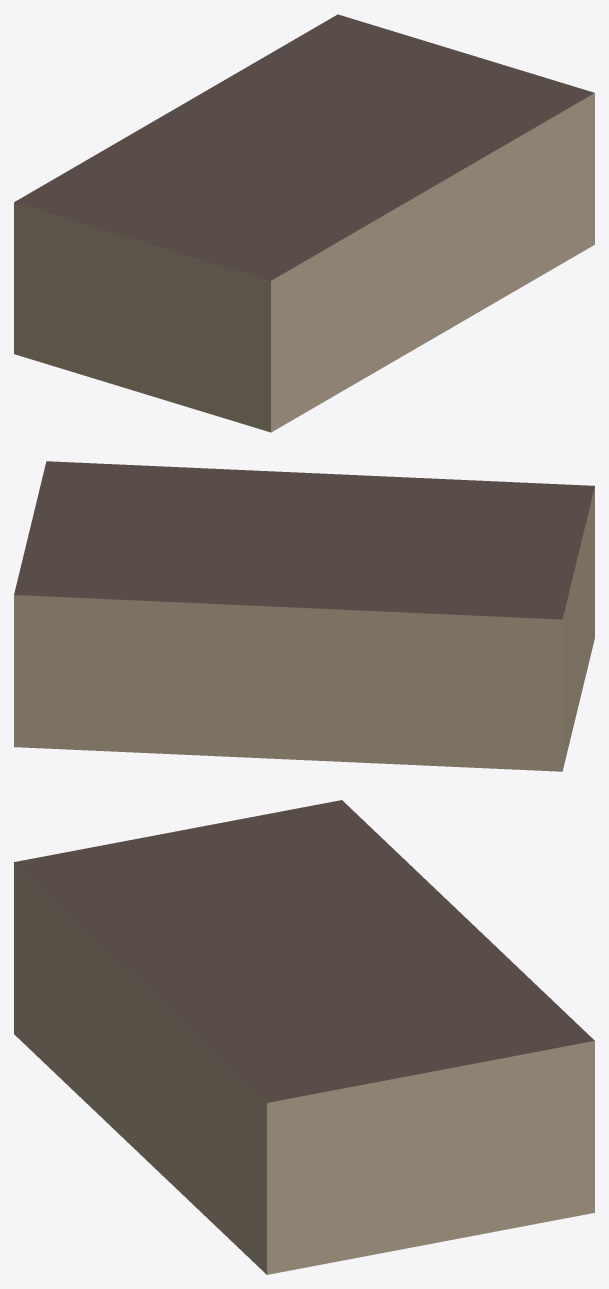
The picture shows the model from 3 angles, top to bottom: view 1: azimuth 30°, elevation 25°; view 2: azimuth 150°, elevation 25°; view 3: azimuth 270°, elevation 25°; orthographic projection. The views are drawn at different scales.
Parts seen in each view (by area): view 1: HP-w859088462; view 2: HP-w859088462; view 3: HP-w859088462.
Boxes of the visible parts, left/top/right/bottom form: HP-w859088462: left=14, top=14, right=594, bottom=432; HP-w859088462: left=14, top=461, right=594, bottom=771; HP-w859088462: left=14, top=800, right=594, bottom=1274.
Size of the model in its own units: 34 by 9 by 27.55.
